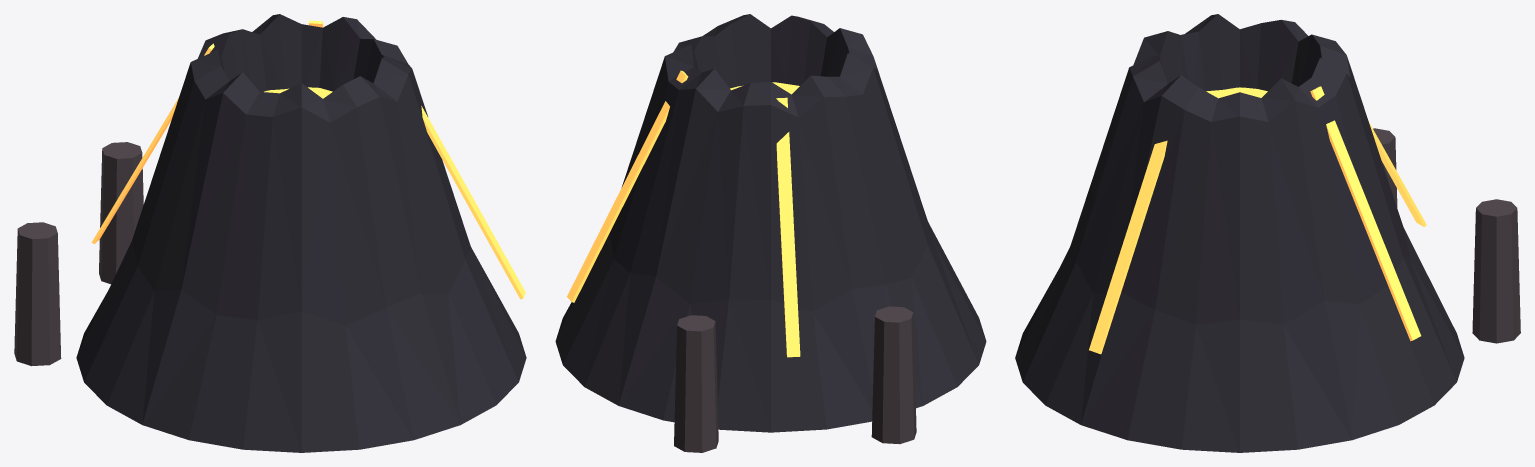
Rendered from Landmark_InfernalCaldera.glb.
3 renders of one model, left to right at view 1: azimuth 30°, elevation 25°; view 2: azimuth 150°, elevation 25°; view 3: azimuth 270°, elevation 25°, orthographic. The views are drawn at different scales.
Visible parts, largest first — view 1: Landmark_InfernalCaldera_InfernalCaldera_dark_3_-5, Landmark_InfernalCaldera_InfernalCaldera_stone_2_-5, Landmark_InfernalCaldera_InfernalCaldera_stone_3_-5, Landmark_InfernalCaldera_Lava glow_3_-6, Landmark_InfernalCaldera_Lava glow_3_-5; view 2: Landmark_InfernalCaldera_InfernalCaldera_dark_3_-5, Landmark_InfernalCaldera_Lava glow_3_-5, Landmark_InfernalCaldera_InfernalCaldera_stone_2_-5, Landmark_InfernalCaldera_InfernalCaldera_stone_3_-5; view 3: Landmark_InfernalCaldera_InfernalCaldera_dark_3_-5, Landmark_InfernalCaldera_InfernalCaldera_stone_3_-5, Landmark_InfernalCaldera_Lava glow_3_-5, Landmark_InfernalCaldera_Lava glow_3_-6, Landmark_InfernalCaldera_InfernalCaldera_stone_2_-5.
Boxes of the visible parts, x1=… form: Landmark_InfernalCaldera_InfernalCaldera_dark_3_-5: x1=76, y1=14, x2=526, y2=452; Landmark_InfernalCaldera_InfernalCaldera_stone_2_-5: x1=14, y1=222, x2=61, y2=366; Landmark_InfernalCaldera_InfernalCaldera_stone_3_-5: x1=99, y1=142, x2=143, y2=284; Landmark_InfernalCaldera_Lava glow_3_-6: x1=421, y1=106, x2=525, y2=299; Landmark_InfernalCaldera_Lava glow_3_-5: x1=91, y1=20, x2=332, y2=244; Landmark_InfernalCaldera_InfernalCaldera_dark_3_-5: x1=555, y1=14, x2=986, y2=432; Landmark_InfernalCaldera_Lava glow_3_-5: x1=567, y1=70, x2=800, y2=357; Landmark_InfernalCaldera_InfernalCaldera_stone_2_-5: x1=871, y1=306, x2=916, y2=444; Landmark_InfernalCaldera_InfernalCaldera_stone_3_-5: x1=674, y1=315, x2=718, y2=452; Landmark_InfernalCaldera_InfernalCaldera_dark_3_-5: x1=1015, y1=14, x2=1464, y2=452; Landmark_InfernalCaldera_InfernalCaldera_stone_3_-5: x1=1472, y1=199, x2=1520, y2=343; Landmark_InfernalCaldera_Lava glow_3_-5: x1=1206, y1=86, x2=1426, y2=341; Landmark_InfernalCaldera_Lava glow_3_-6: x1=1089, y1=140, x2=1167, y2=354; Landmark_InfernalCaldera_InfernalCaldera_stone_2_-5: x1=1373, y1=128, x2=1397, y2=207.
Size of the model in its own units: 137 by 98.97 by 146.
